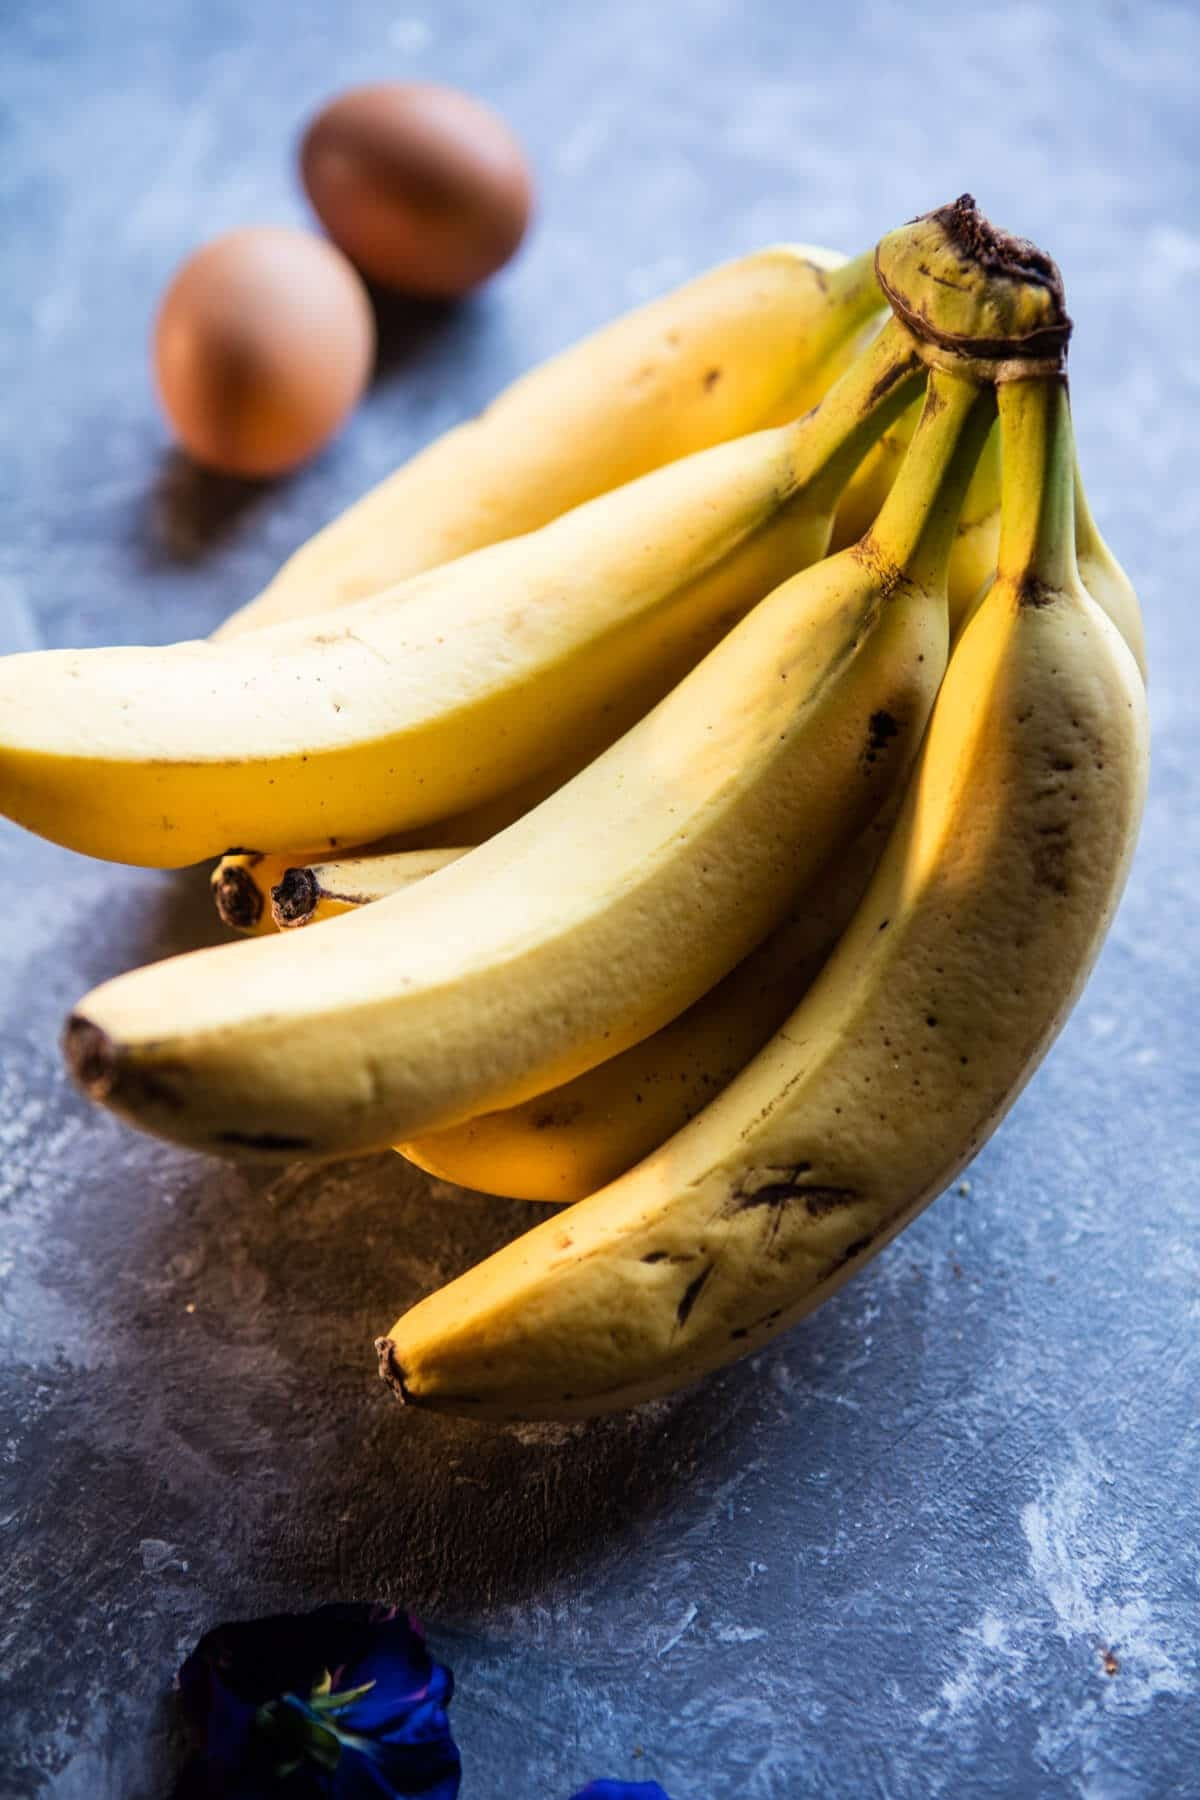banana: (366, 575, 1173, 1513), (46, 524, 1011, 1201), (163, 212, 946, 792), (1, 399, 899, 889)
